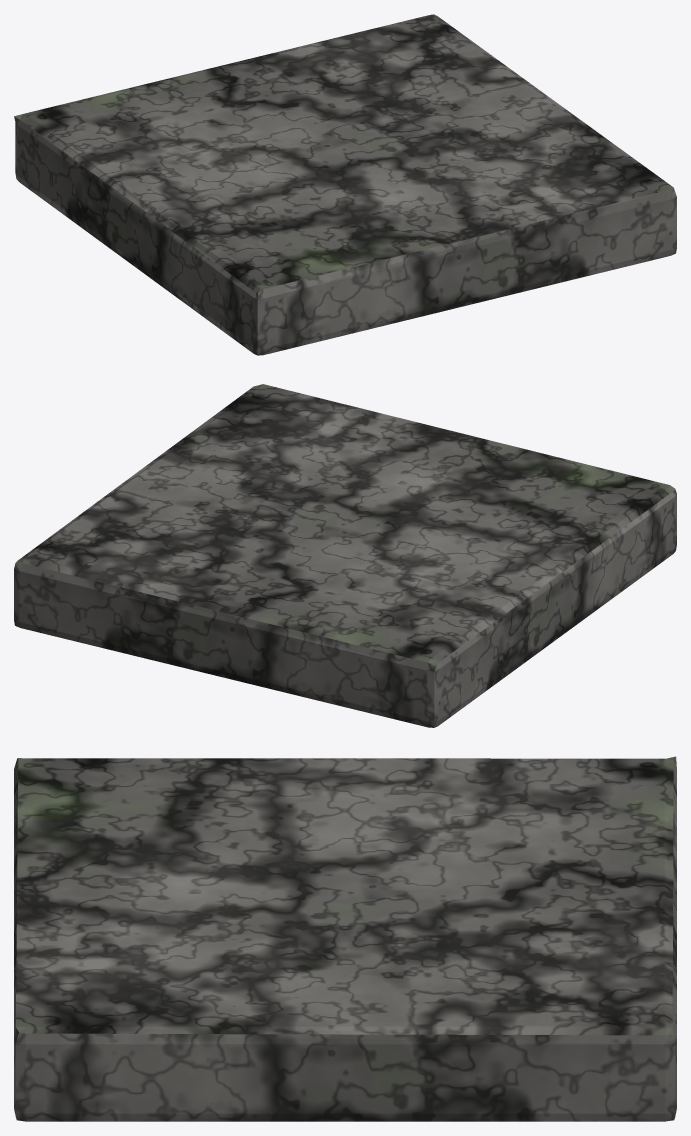
The model's file is slab.glb.
3 renders of one model, top to bottom at view 1: azimuth 30°, elevation 25°; view 2: azimuth 150°, elevation 25°; view 3: azimuth 270°, elevation 25°, orthographic. The views are drawn at different scales.
Parts seen in each view (by area): view 1: Slab; view 2: Slab; view 3: Slab.
Part boxes in pixels (left/top/right/bottom): Slab: left=14, top=14, right=676, bottom=355; Slab: left=14, top=384, right=676, bottom=727; Slab: left=14, top=756, right=676, bottom=1121.
Size of the model in its own units: 2 by 0.3087 by 2.
1 material, 1 textured.
